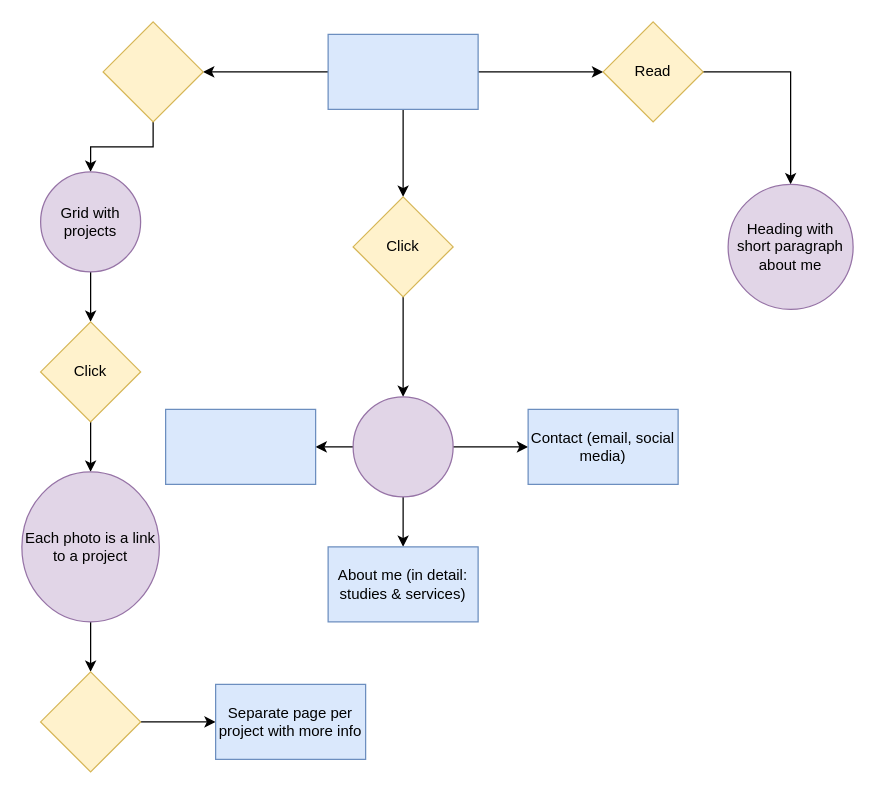
Some shapes in this 875 by 794 pixel diagram are drawn without their labels. The shapes that lost their labels are listed below. From the top down, each one's centre as x and y in pixels, then its label:
the point at 152,71: Scroll
the point at 402,71: Homepage
the point at 402,446: Links to other pages
the point at 90,721: Hover / Click
